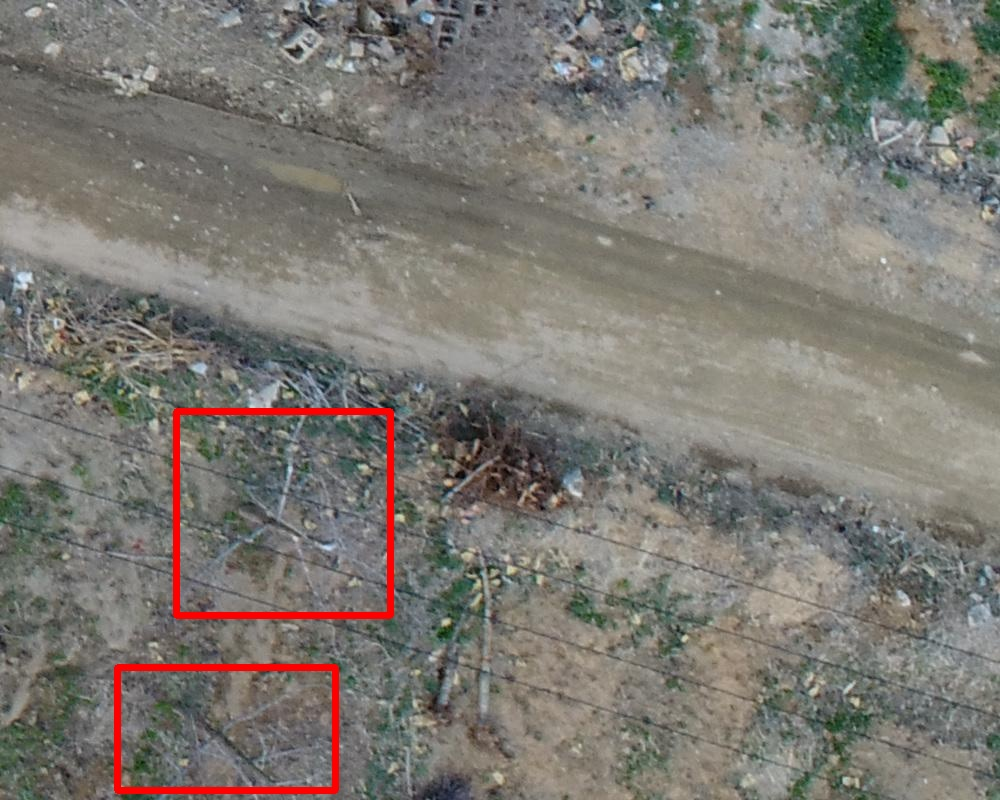apple: (176, 411, 390, 615), (117, 667, 335, 790)
